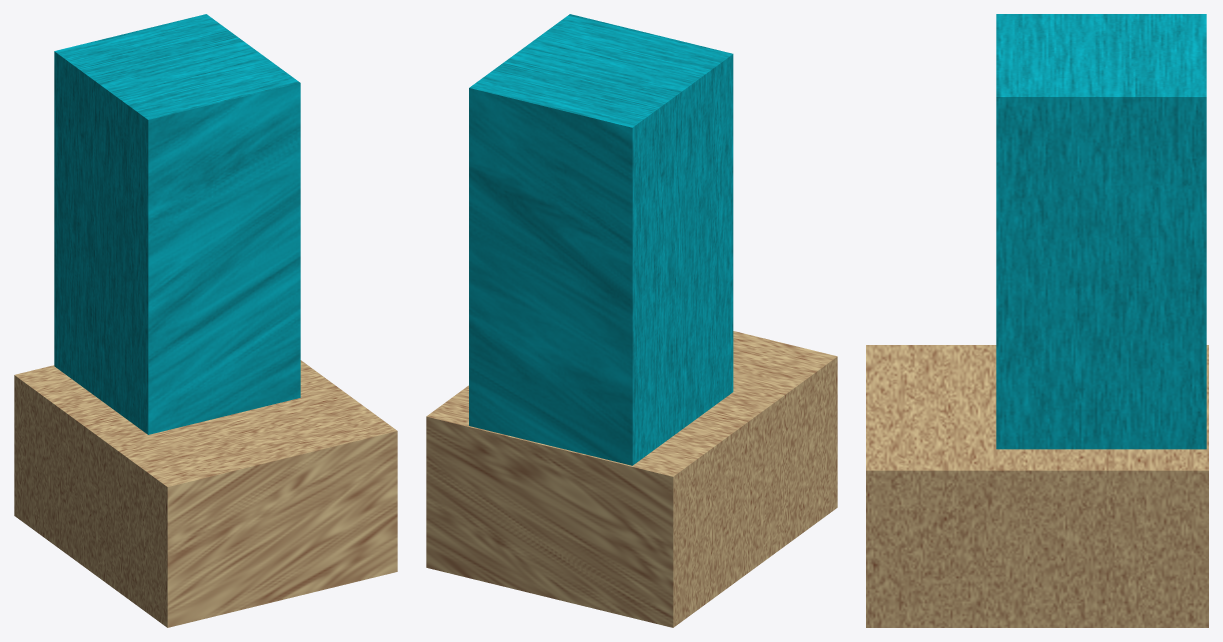
The model's file is bossRightFeet.obj.
3 views of the same model, side by side, from view 1: azimuth 30°, elevation 25°; view 2: azimuth 150°, elevation 25°; view 3: azimuth 270°, elevation 25° (orthographic). The views are drawn at different scales.
Parts seen in each view (by area): view 1: bossRightFeet; view 2: bossRightFeet; view 3: bossRightFeet.
Boxes of the visible parts, x1,y1,x2,y2 form: bossRightFeet: [14, 14, 397, 627]; bossRightFeet: [426, 14, 837, 627]; bossRightFeet: [866, 14, 1208, 627].
Bounding box in the file's own units: 0.65 × 1.23 × 0.75.
Materials: 1 (1 with a texture image).
